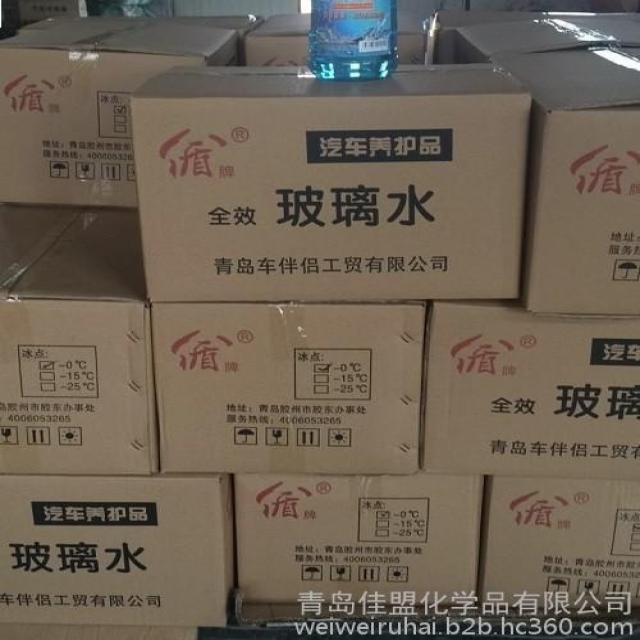box: (131, 62, 534, 302), (152, 299, 426, 476), (0, 18, 239, 209), (0, 203, 160, 476), (492, 46, 640, 319), (421, 298, 640, 481), (0, 472, 237, 627), (236, 473, 486, 605), (476, 476, 640, 609), (18, 14, 264, 63), (426, 11, 640, 63), (456, 15, 640, 63), (243, 13, 310, 65), (18, 0, 87, 26), (398, 12, 425, 64)
